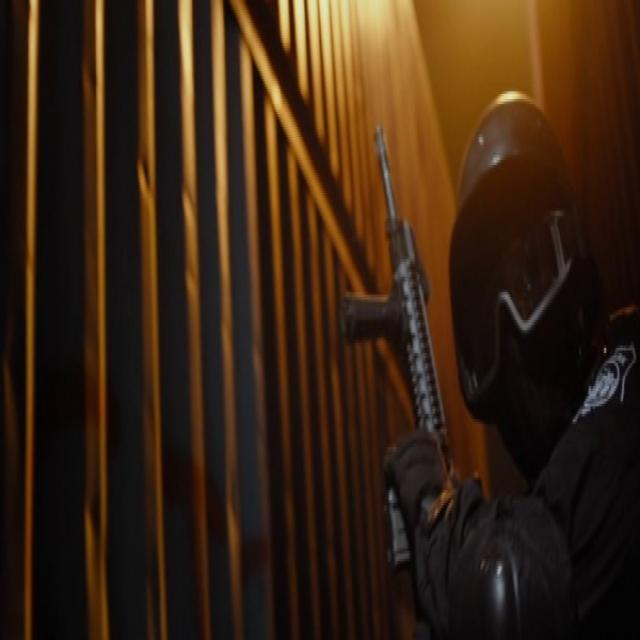rifle: (338, 106, 458, 566)
